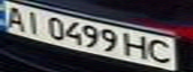0: (42, 15, 66, 42)
4: (63, 19, 84, 47)
9: (96, 26, 121, 54), (78, 22, 100, 50)
A: (0, 3, 30, 30)
C: (145, 37, 178, 65)
H: (124, 32, 151, 61)
I: (21, 8, 48, 35)
